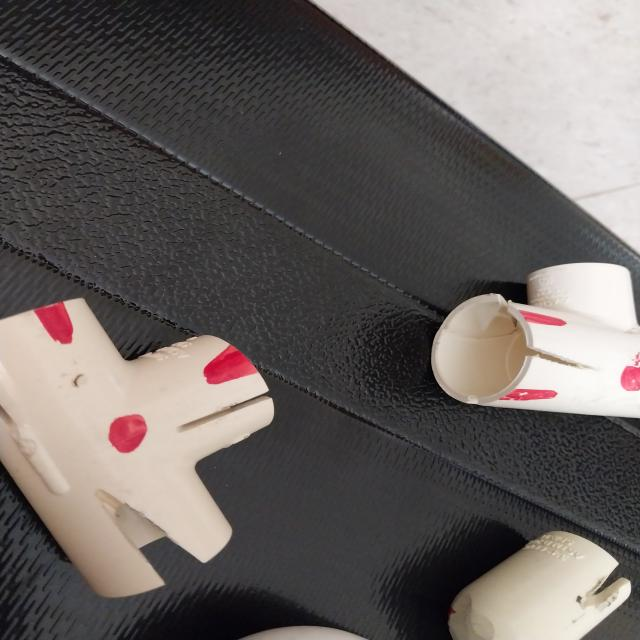Defective: (0, 404, 67, 502), (98, 492, 167, 566), (190, 381, 273, 427), (578, 566, 632, 632), (198, 350, 260, 388), (107, 415, 148, 457), (34, 305, 76, 341), (454, 615, 512, 640), (620, 359, 640, 393), (516, 391, 558, 403)
L Joint: (450, 533, 632, 640)
T Joint: (3, 287, 272, 601), (434, 280, 640, 405)
